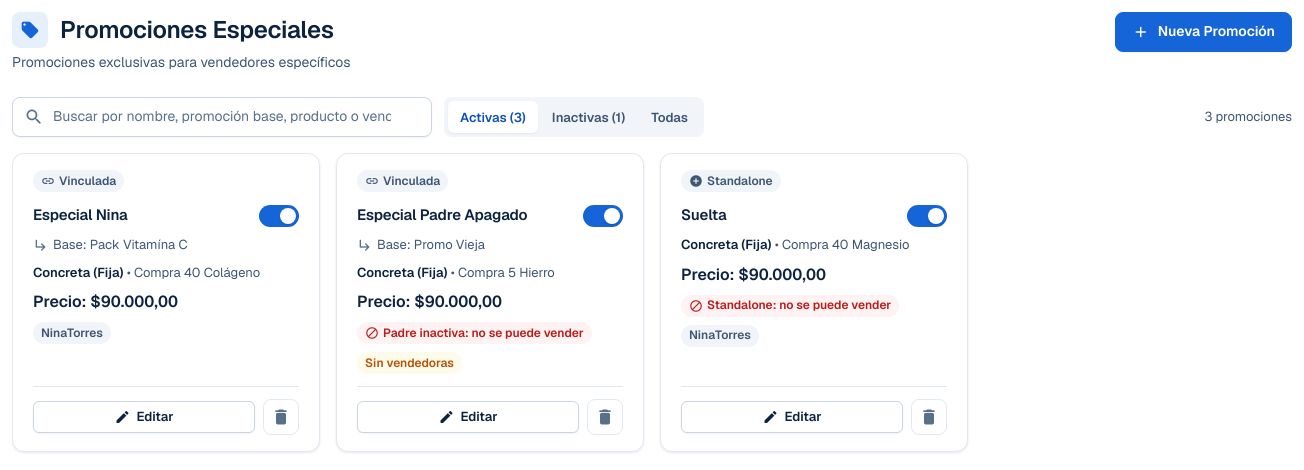
Test case: carga todas las especiales de una vez (no solo la página 0 de 20 ni /search) y abre en Activas
Expected: the heading "Especial Nina" is shown, [33,204,128,225]
Expected: the text "Especial Inactiva" is not shown
Click the tab "Inactivas (1)" at (588, 117), box [540,101,637,133]
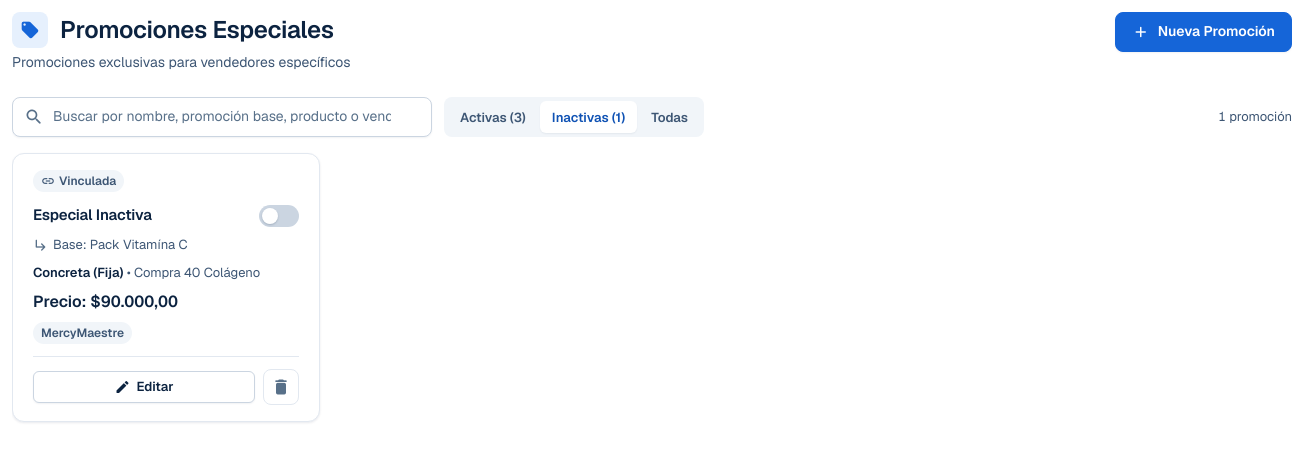
Now the heading "Especial Inactiva" is shown, box [33,204,152,225]
Now the heading "Especial Nina" is gone
